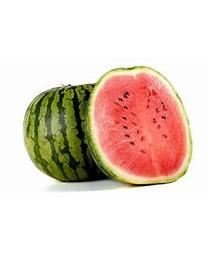watermelon: (84, 64, 193, 187), (22, 83, 113, 183)
